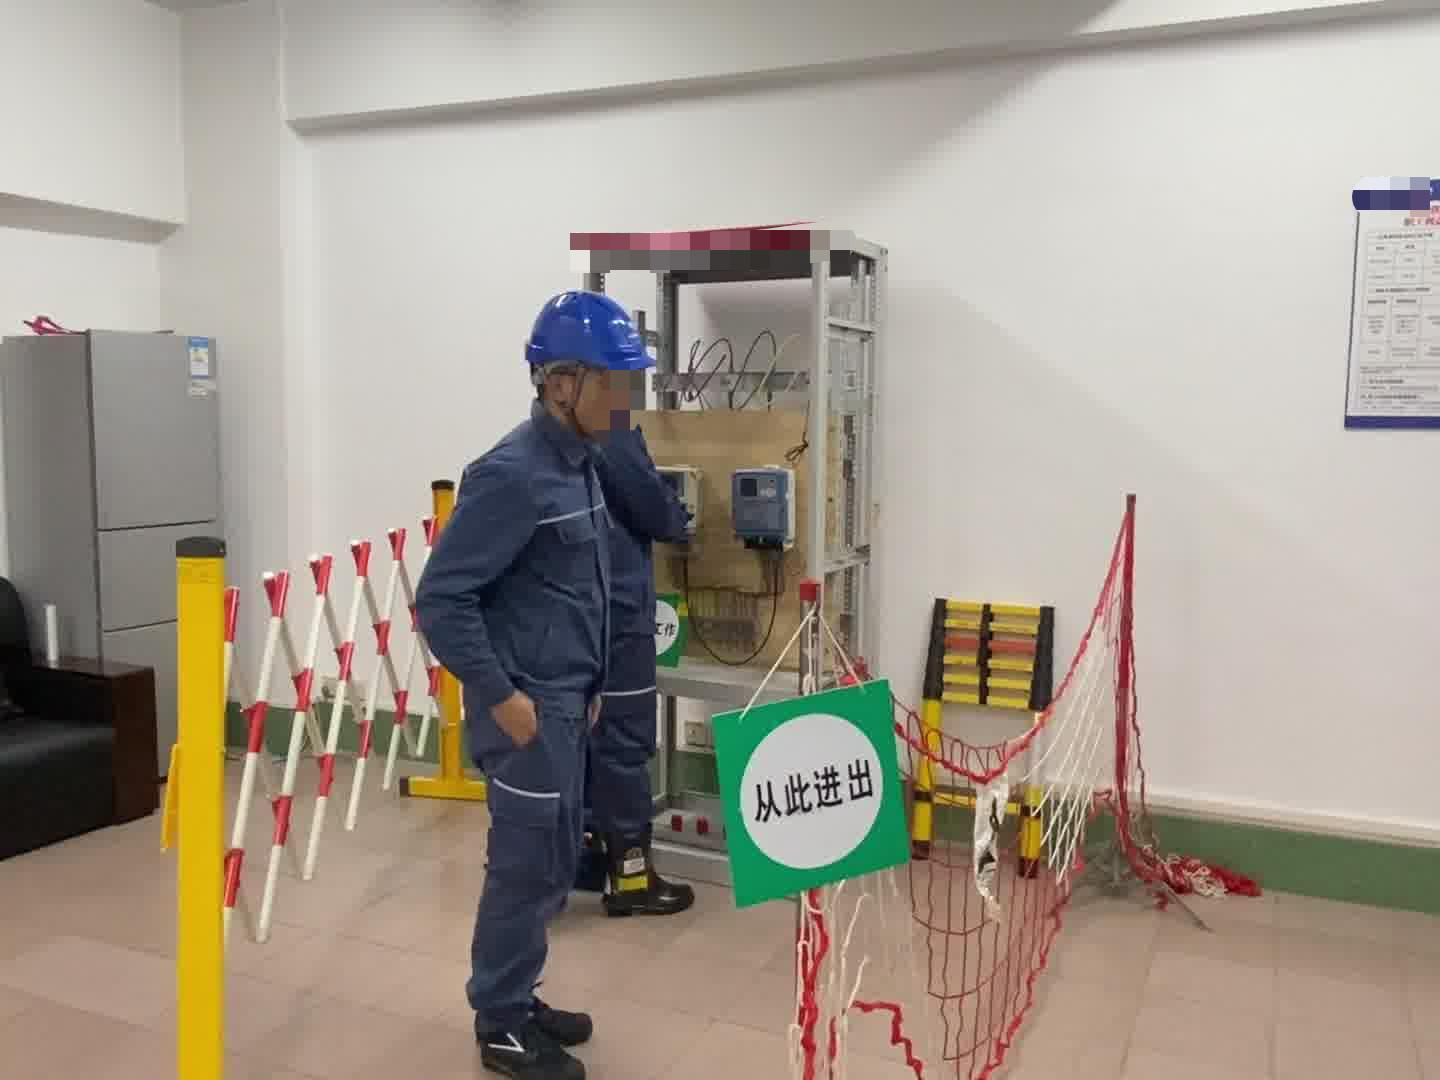halt: (525, 290, 660, 437)
inear: (539, 362, 593, 419)
